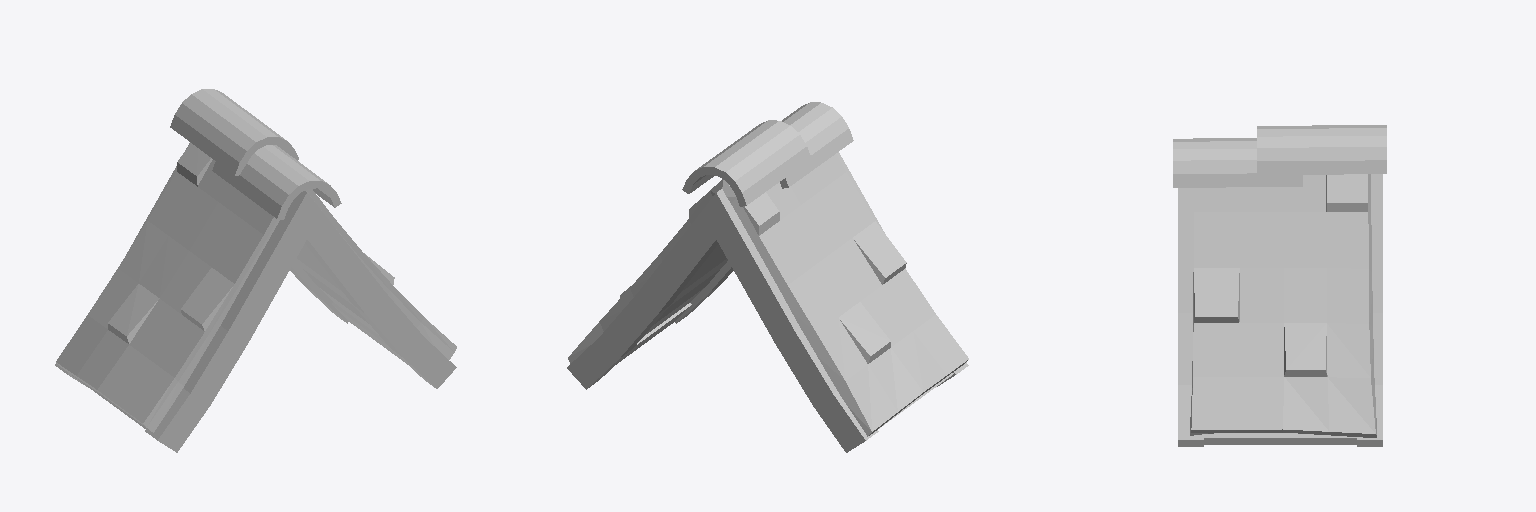
File: Roof_FlatTile_2x1.obj
The picture shows the model from 3 angles: view 1: azimuth 30°, elevation 25°; view 2: azimuth 150°, elevation 25°; view 3: azimuth 270°, elevation 25°; orthographic projection.
Parts seen in each view (by area): view 1: Roof_FlatTile_2x1; view 2: Roof_FlatTile_2x1; view 3: Roof_FlatTile_2x1.
Boxes of the visible parts, x1=… form: Roof_FlatTile_2x1: x1=55, y1=89, x2=456, y2=452; Roof_FlatTile_2x1: x1=567, y1=102, x2=968, y2=452; Roof_FlatTile_2x1: x1=1173, y1=125, x2=1386, y2=446.
Size of the model in its own units: 3.23 by 2.51 by 1.91.